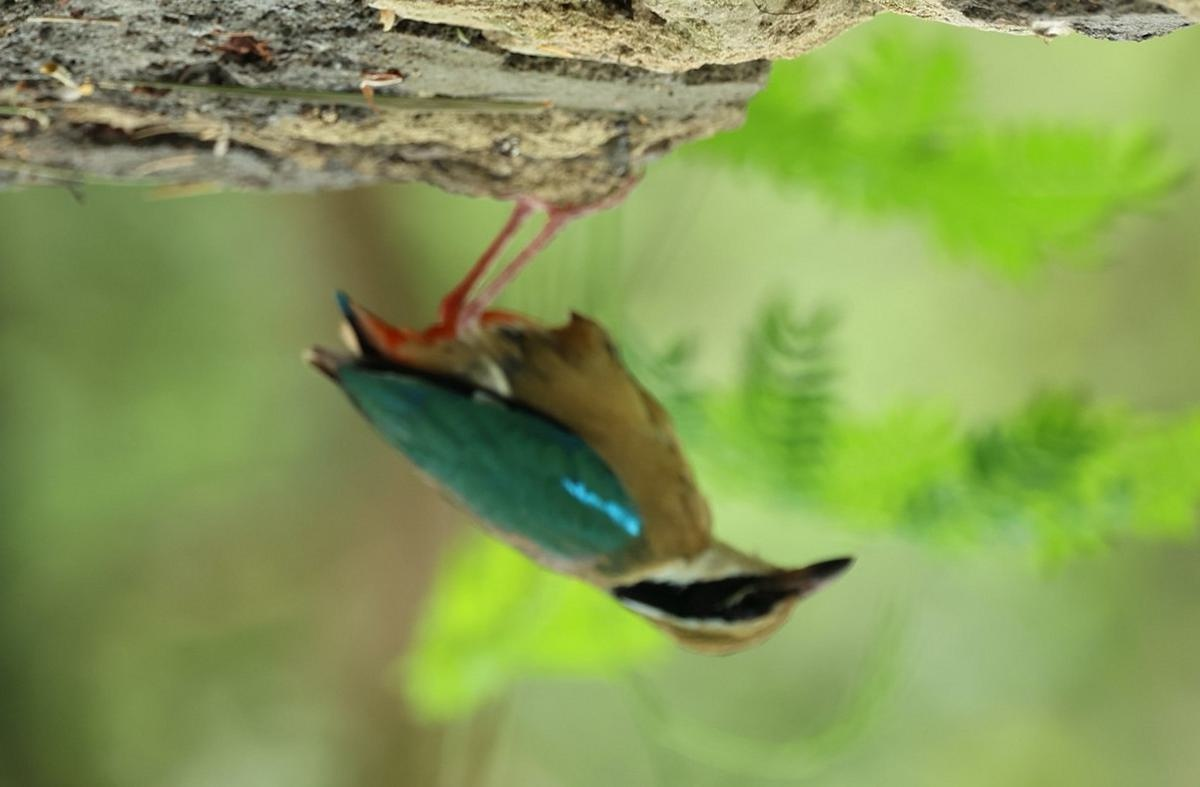pitta: (295, 165, 851, 697)
